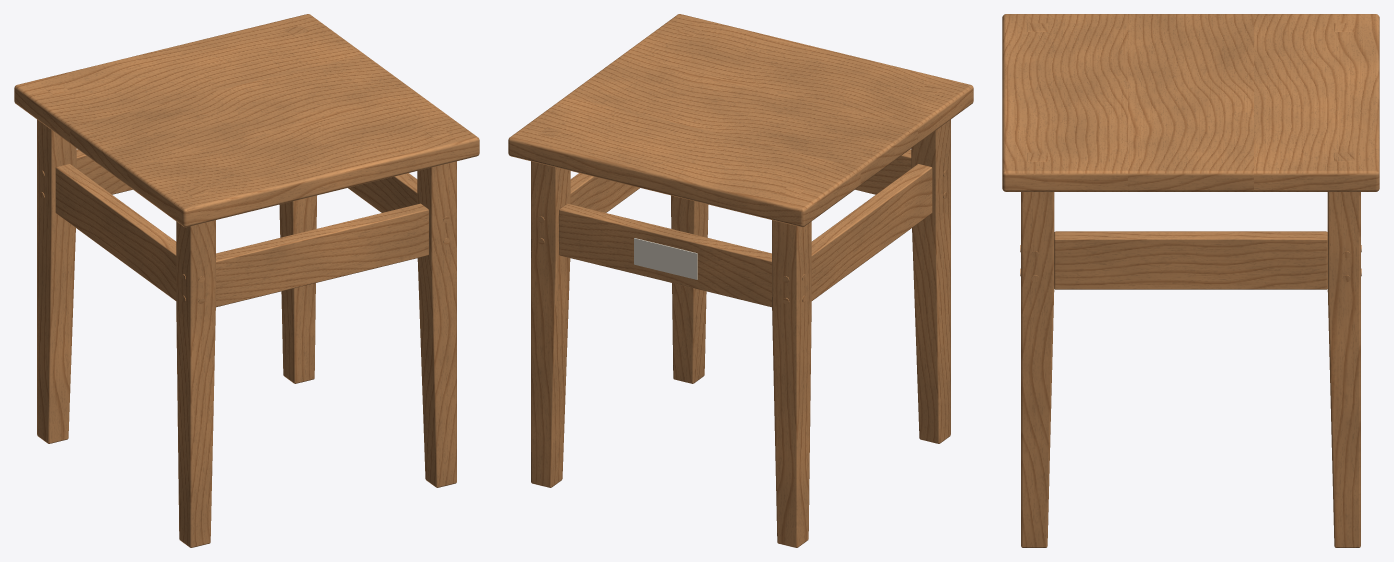
Rendered from Hocker01_Finish.glb.
The picture shows the model from 3 angles, left to right: view 1: azimuth 30°, elevation 25°; view 2: azimuth 150°, elevation 25°; view 3: azimuth 270°, elevation 25°; orthographic projection. The views are drawn at different scales.
Visible parts, largest first — view 1: Hocker01_Finish__WoodFinish; view 2: Hocker01_Finish__WoodFinish, Hocker01_Finish__WallWhite; view 3: Hocker01_Finish__WoodFinish.
Boxes of the visible parts, x1,y1,x2,y2 form: Hocker01_Finish__WoodFinish: [14, 14, 479, 547]; Hocker01_Finish__WoodFinish: [508, 14, 973, 547]; Hocker01_Finish__WallWhite: [634, 238, 697, 279]; Hocker01_Finish__WoodFinish: [1002, 14, 1379, 547].
Bounding box in the file's own units: 0.4 × 0.45 × 0.4.
2 materials, 1 textured.
